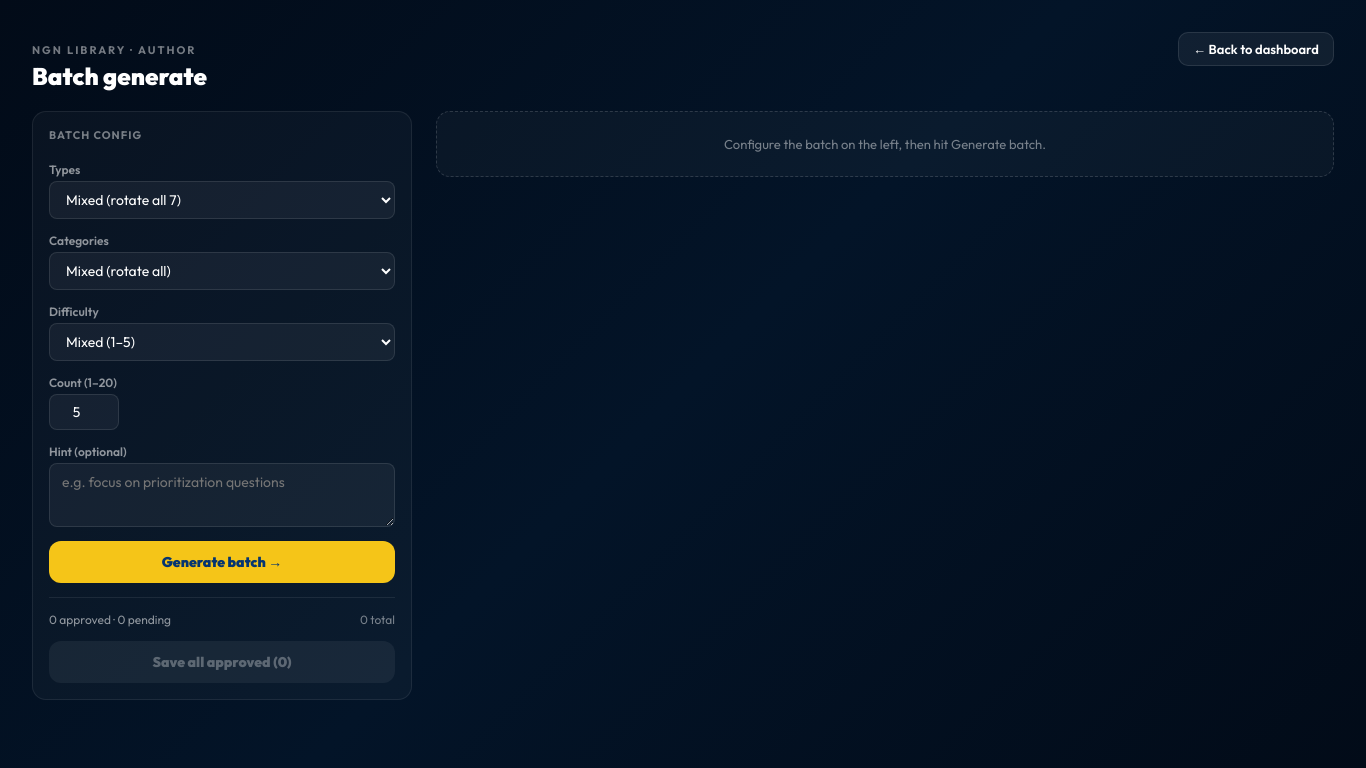
Test case: NGNBatchScreen › Approve marks the card and unlocks Save All
This screenshot has width=1366, height=768.
Replace the text in the number field named "Batch count" with "1" at (84, 412), box [49, 394, 119, 430]
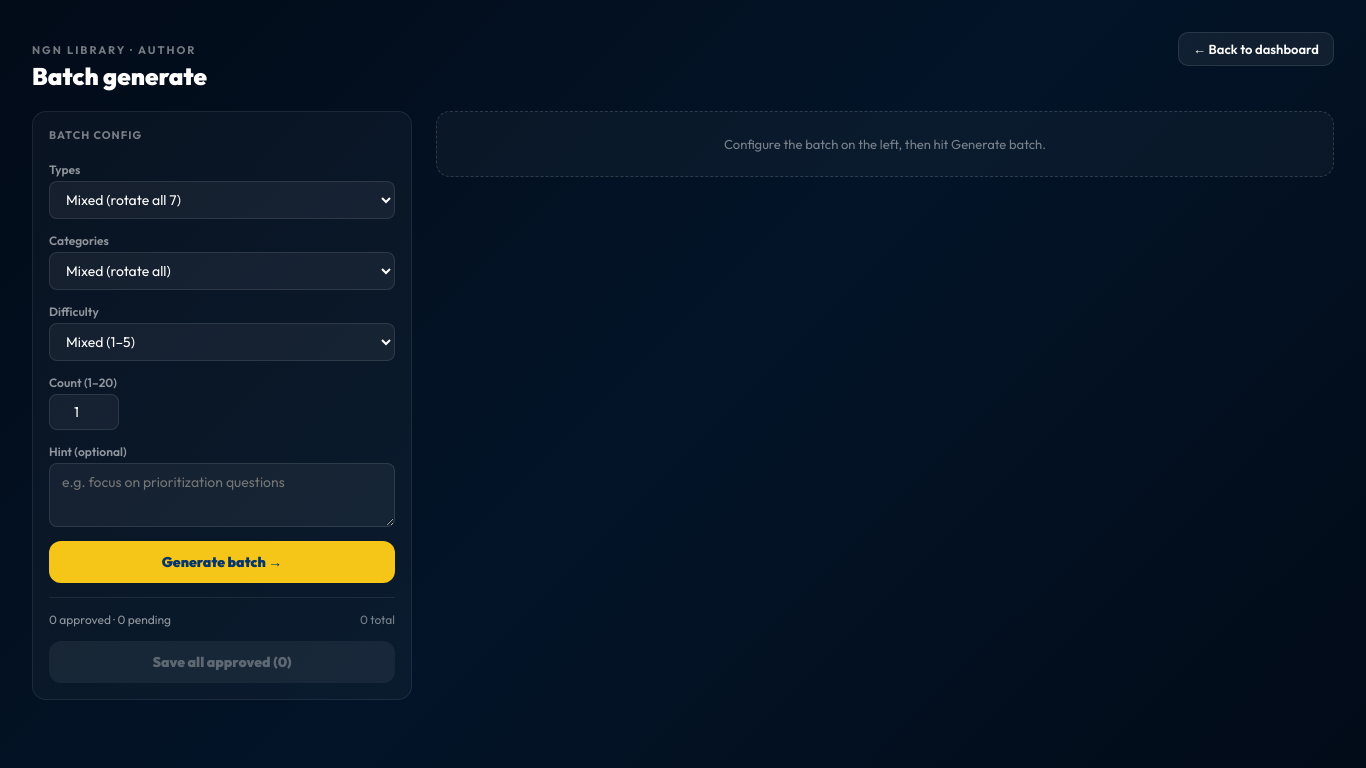
Click the button with test id "batch-generate-btn" at (222, 562), box [49, 541, 395, 583]
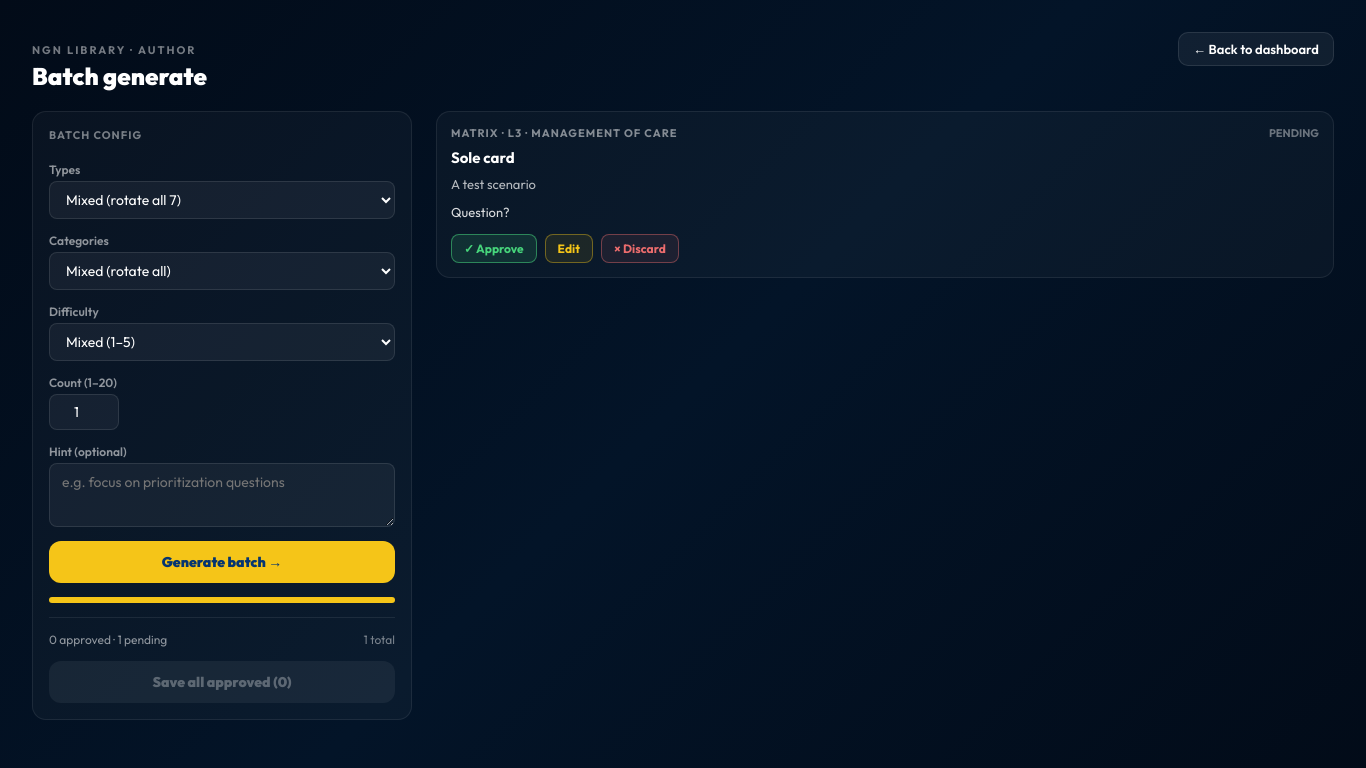
Expected: the button with test id "save-all-btn" is disabled, [49, 661, 395, 703]
Result: the text "Sole card" is shown at [451, 148, 515, 167]
Click the button with test id "approve-btn" at (494, 248), box [451, 234, 537, 263]
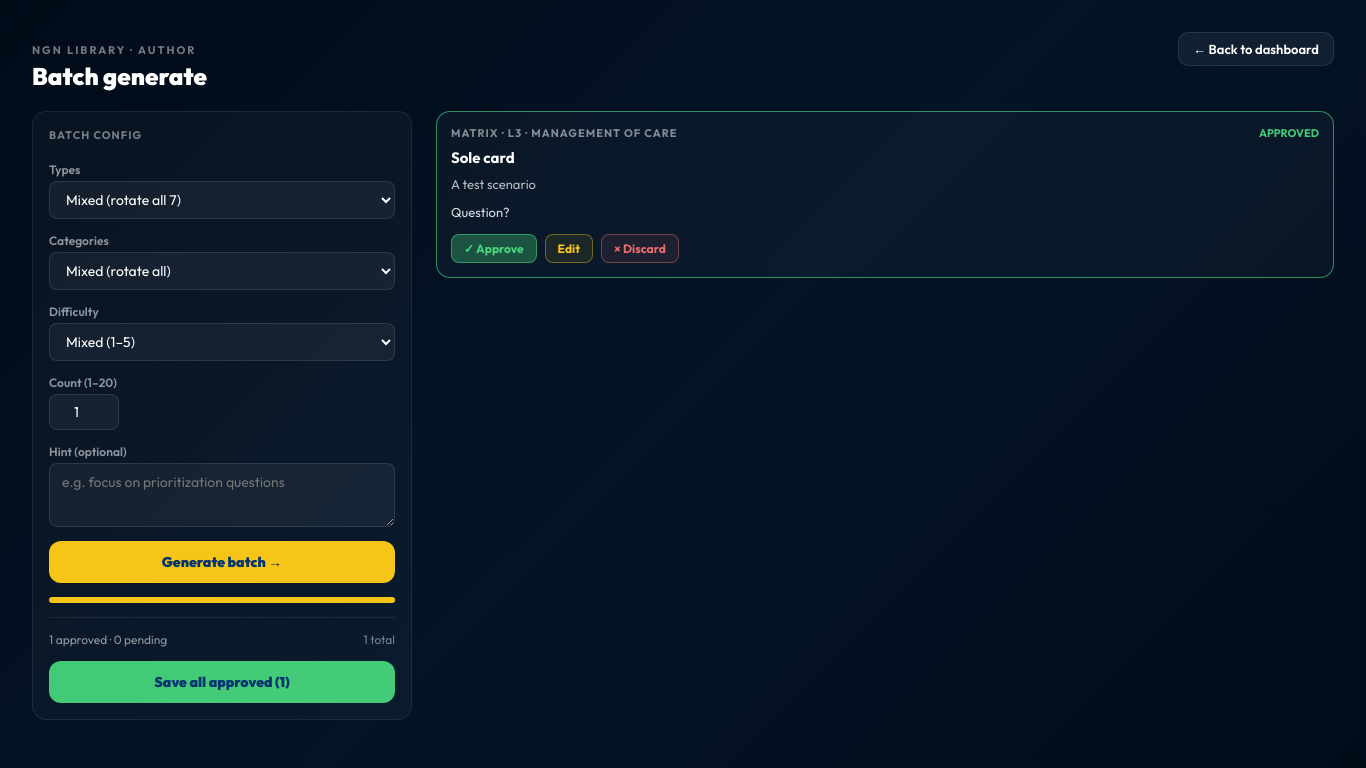
Result: the button with test id "save-all-btn" is enabled at [49, 661, 395, 703]
Result: the button with test id "save-all-btn" reads "Save all approved (1)" at [49, 661, 395, 703]
